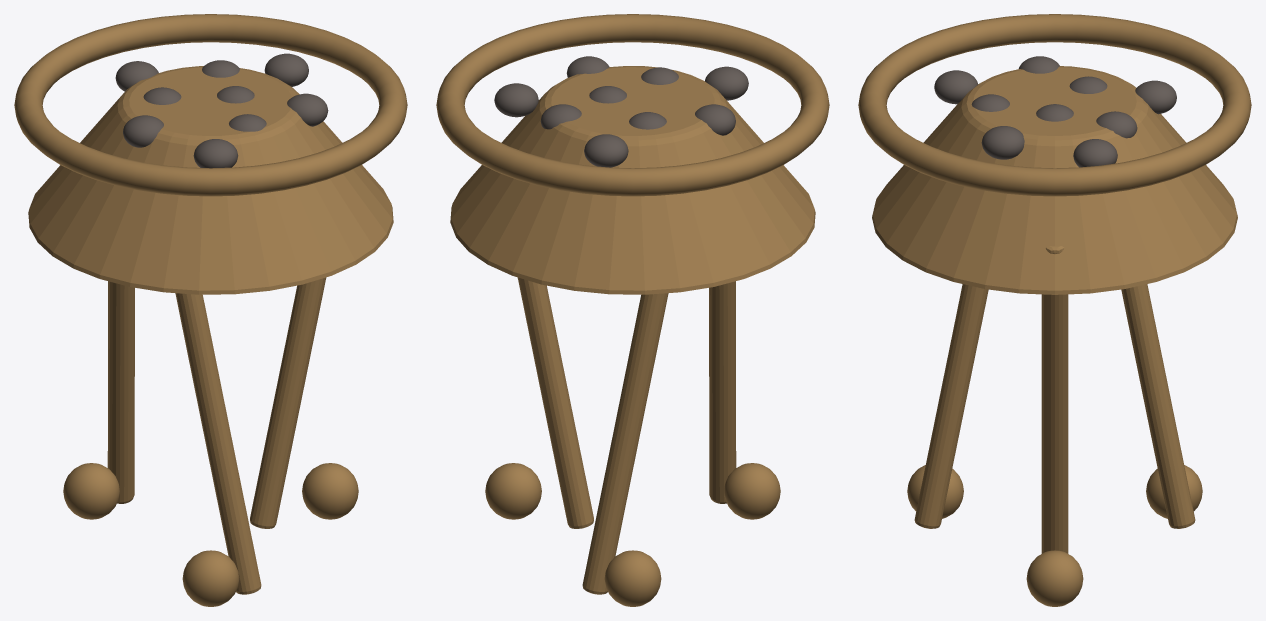
The model's file is brazier.glb.
3 views of the same model, side by side, from view 1: azimuth 30°, elevation 25°; view 2: azimuth 150°, elevation 25°; view 3: azimuth 270°, elevation 25° (orthographic).
Parts seen in each view (by area): view 1: Brazier; view 2: Brazier; view 3: Brazier.
Boxes of the visible parts, x1,y1,x2,y2 form: Brazier: [14, 14, 407, 606]; Brazier: [436, 14, 829, 606]; Brazier: [858, 14, 1251, 606].
Size of the model in its own units: 0.97 by 1.23 by 0.97.
